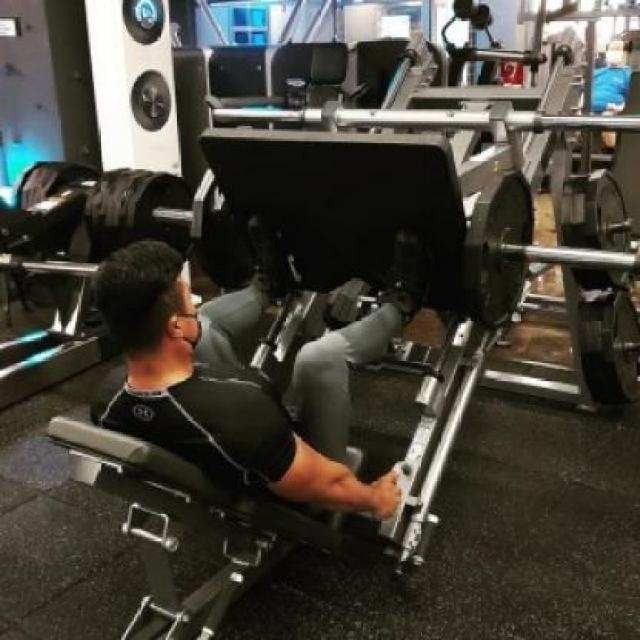leg press: (26, 95, 640, 640)
